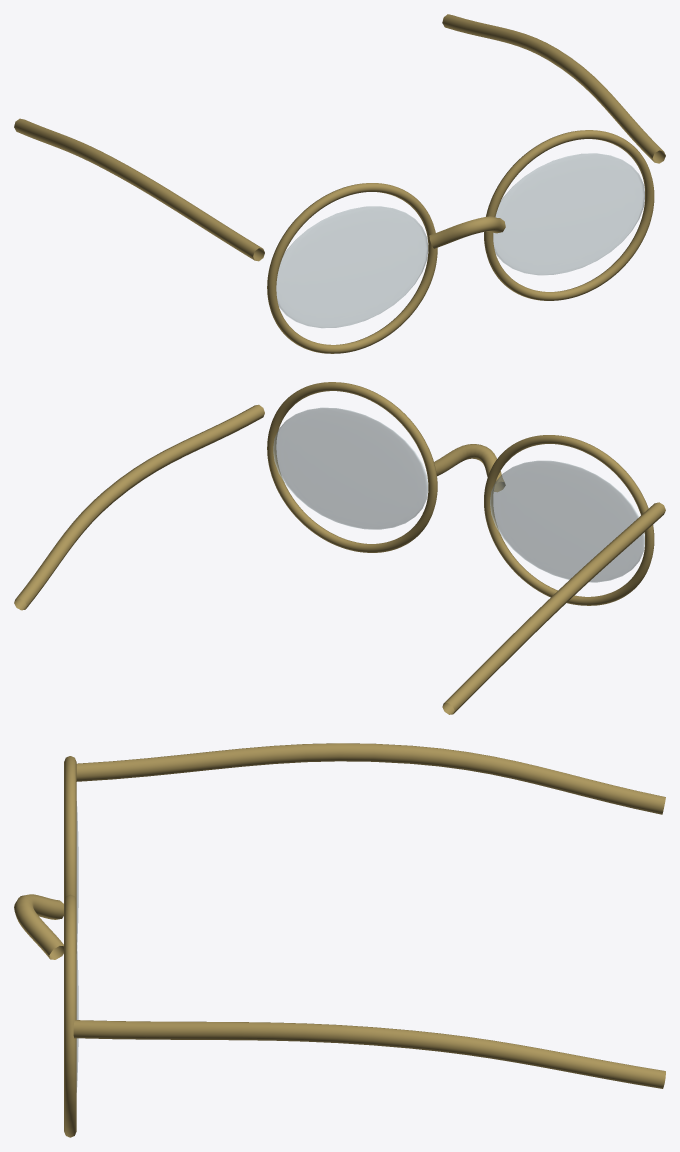
The model's file is accessory-academy-face.glb.
The picture shows the model from 3 angles, top to bottom: view 1: azimuth 30°, elevation 25°; view 2: azimuth 150°, elevation 25°; view 3: azimuth 270°, elevation 25°; orthographic projection. The views are drawn at different scales.
Visible parts, largest first — view 1: Lens rim; view 2: Lens rim; view 3: Lens rim.
Boxes of the visible parts, x1,y1,x2,y2 form: Lens rim: (14,14,665,353); Lens rim: (14,382,665,714); Lens rim: (14,743,665,1137).
Bounding box in the file's own units: 0.1648 × 0.057 × 0.1548.
